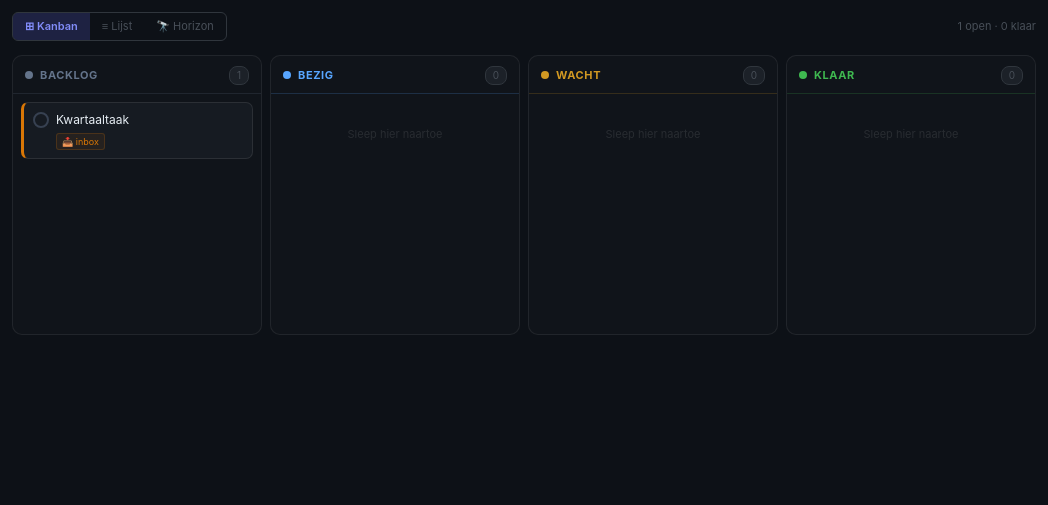
TasksTab — horizon-weergave › groepeert een taak met horizon in zijn eigen kolom — "Nog niet ingedeeld" blijft op 0 staan
The width and height of the screenshot is (1048, 505).
Click the button "🔭 Horizon" at (185, 26), box [144,13,226,40]
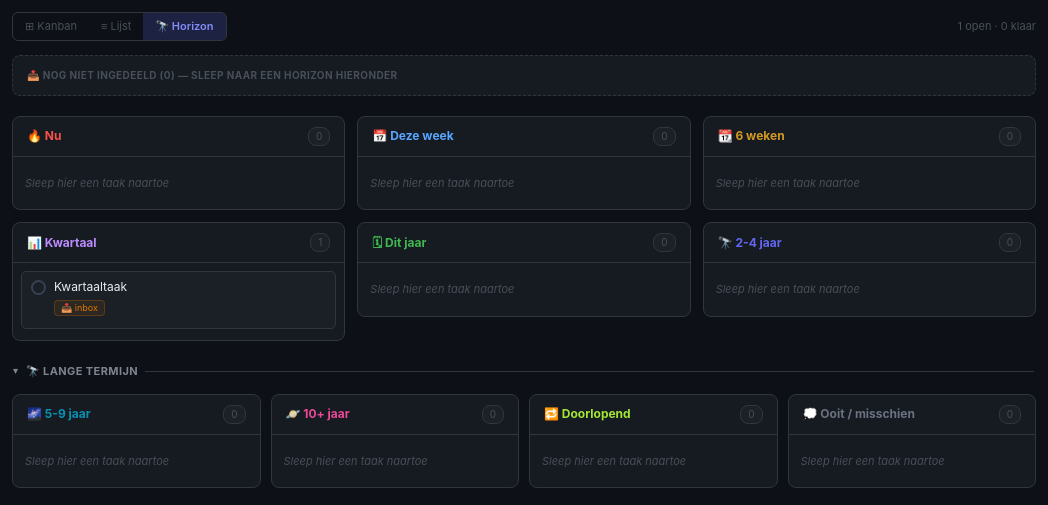
Expected: the element showing "📊 Kwartaal 1 Kwartaaltaak 📥 inbox" is shown, [12,222,345,341]
Expected: the text "📥 Nog niet ingedeeld (0) — sleep naar een horizon hieronder" is shown, [27,68,398,80]
